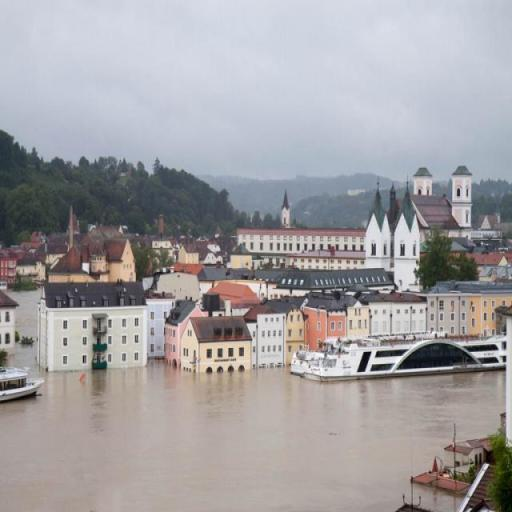flood: (0, 362, 506, 512), (9, 292, 40, 336), (10, 346, 38, 376)
house: (44, 279, 157, 377), (235, 225, 367, 268), (168, 305, 244, 374), (365, 180, 421, 259), (301, 298, 363, 346), (210, 278, 272, 325), (461, 283, 512, 339), (280, 269, 397, 292), (366, 289, 424, 335), (248, 306, 290, 368), (427, 287, 461, 338), (156, 270, 198, 304), (106, 240, 138, 281), (444, 444, 485, 470), (0, 290, 18, 349), (412, 166, 434, 198), (0, 249, 18, 283), (477, 253, 512, 268), (88, 244, 106, 273), (88, 226, 123, 240), (178, 242, 200, 264), (45, 242, 69, 262), (16, 259, 40, 276), (476, 213, 498, 231), (198, 267, 226, 281), (206, 240, 222, 255), (151, 240, 174, 250), (200, 250, 216, 264)
